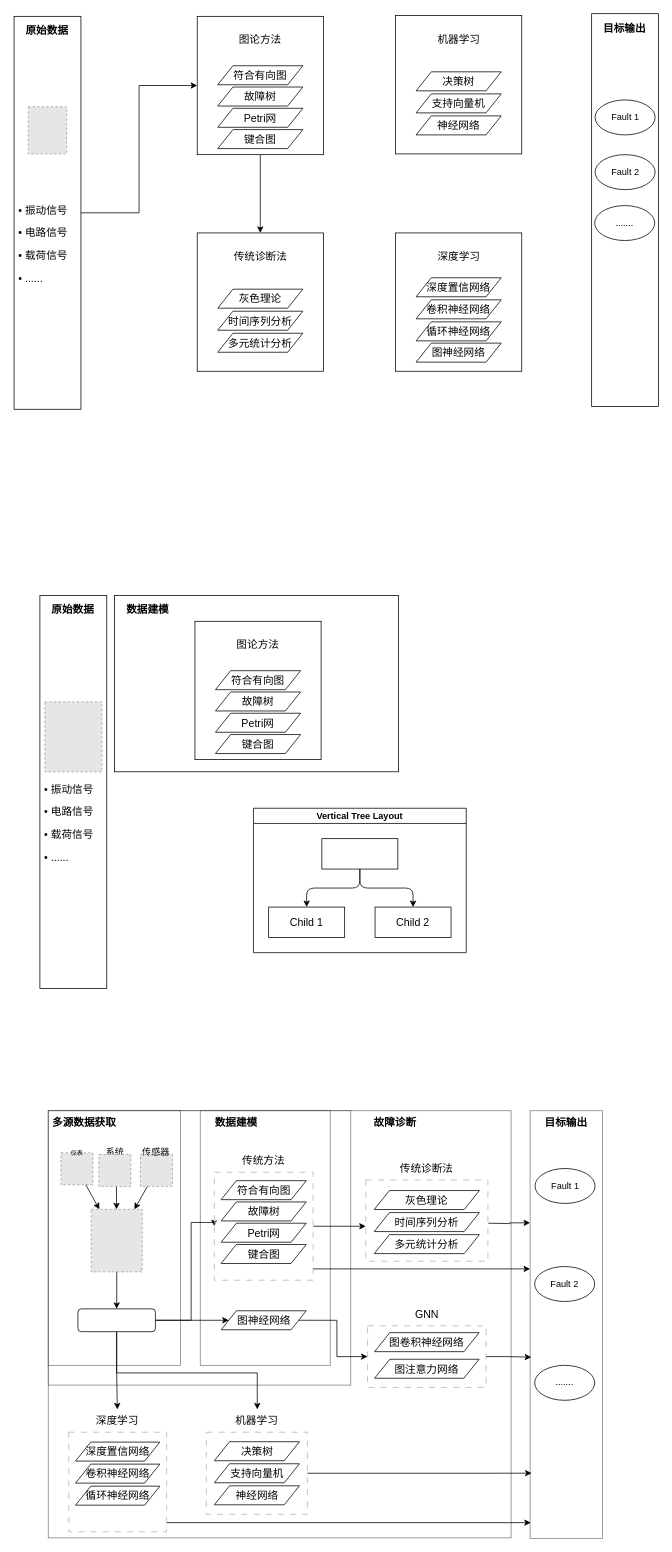
The diagram is 672 pixels wide and 1552 high, and some of its shapes have lost their labels. Grey dashed boxes stand in for pictures. Each missing label, with the centre of its shape:
"Root" belongs at [359,853].
"数据预处理" belongs at [116,1320].
